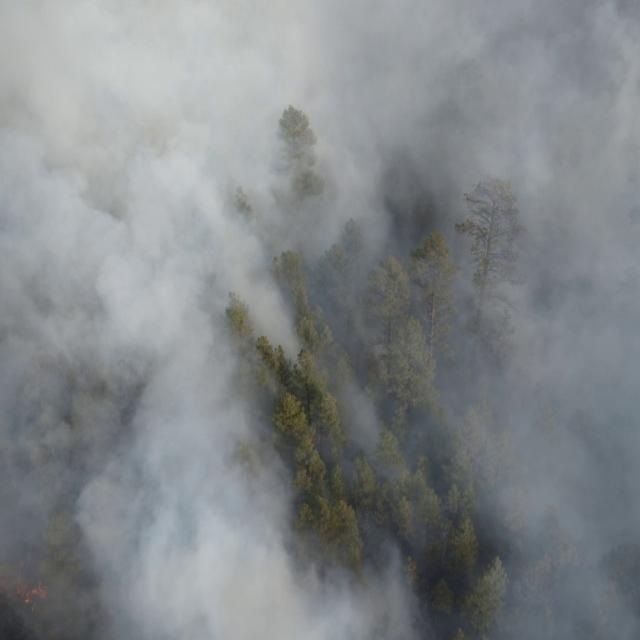fire: (0, 558, 51, 611)
smoke: (0, 0, 640, 640)
